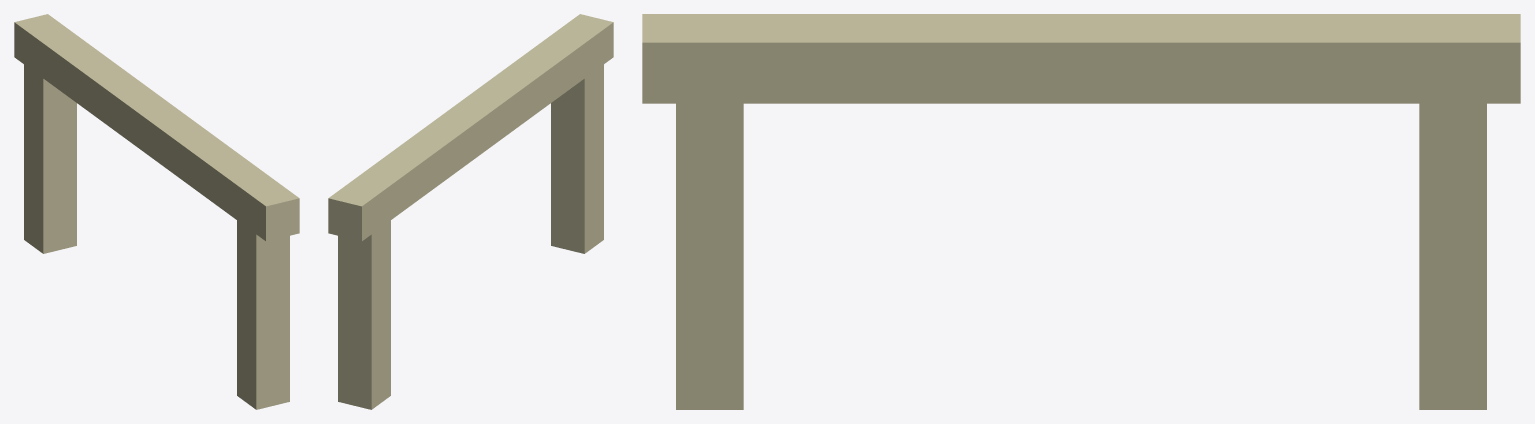
Rendered from Horse_TieUp.FBX.
3 renders of one model, left to right at view 1: azimuth 30°, elevation 25°; view 2: azimuth 150°, elevation 25°; view 3: azimuth 270°, elevation 25°, orthographic. The views are drawn at different scales.
Visible parts, largest first — view 1: Horse_TieUp; view 2: Horse_TieUp; view 3: Horse_TieUp.
Part boxes in pixels (box(x1,y1,x2,y2)): Horse_TieUp: box(14, 14, 299, 409); Horse_TieUp: box(328, 14, 613, 409); Horse_TieUp: box(642, 14, 1520, 409).
Bounding box in the file's own units: 20 × 260 × 120.
